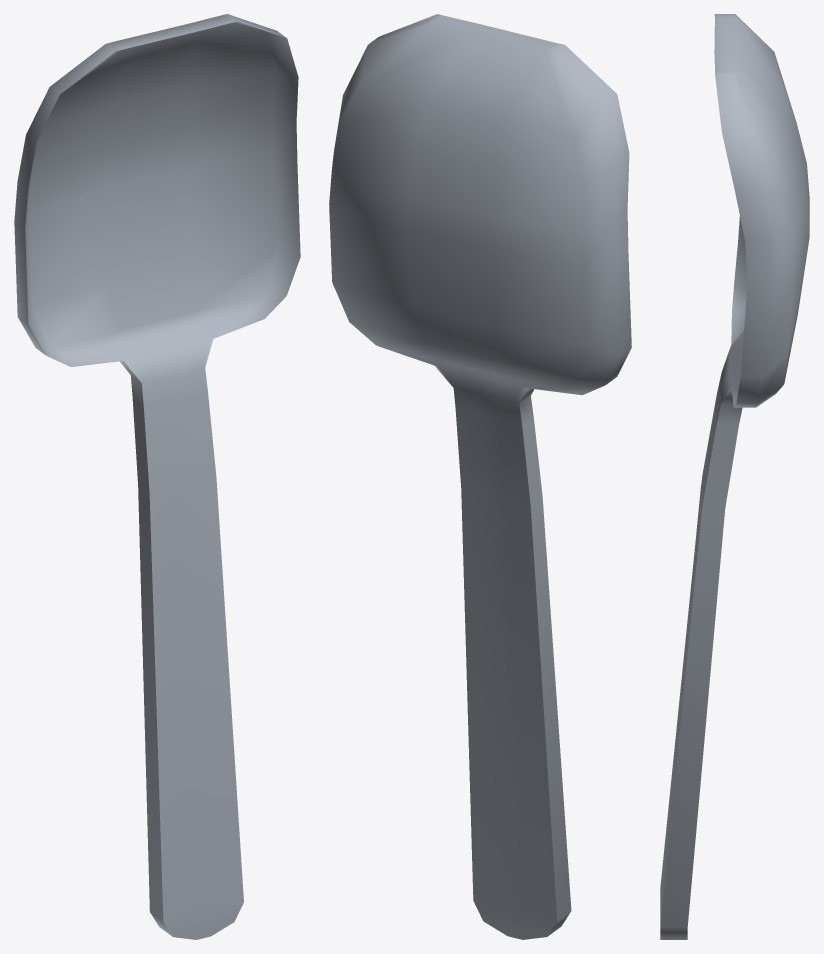
The model's file is sspoon_serving_spoon_metal.glb.
The picture shows the model from 3 angles, left to right: view 1: azimuth 30°, elevation 25°; view 2: azimuth 150°, elevation 25°; view 3: azimuth 270°, elevation 25°; orthographic projection. The views are drawn at different scales.
Parts seen in each view (by area): view 1: sspoon serving spoon metal; view 2: sspoon serving spoon metal; view 3: sspoon serving spoon metal.
Boxes of the visible parts, bbox=[...] form: sspoon serving spoon metal: bbox=[14, 14, 300, 939]; sspoon serving spoon metal: bbox=[329, 14, 631, 939]; sspoon serving spoon metal: bbox=[660, 14, 809, 939].
Bounding box in the file's own units: 2.09 × 6.44 × 0.9791.
Materials: 1 (1 with a texture image).
